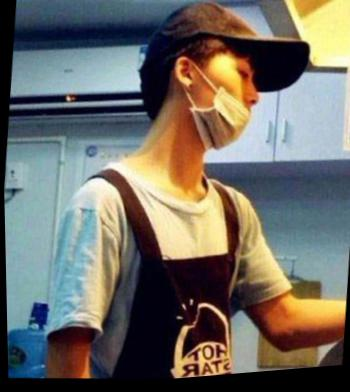WRONG: (193, 46, 267, 158)
